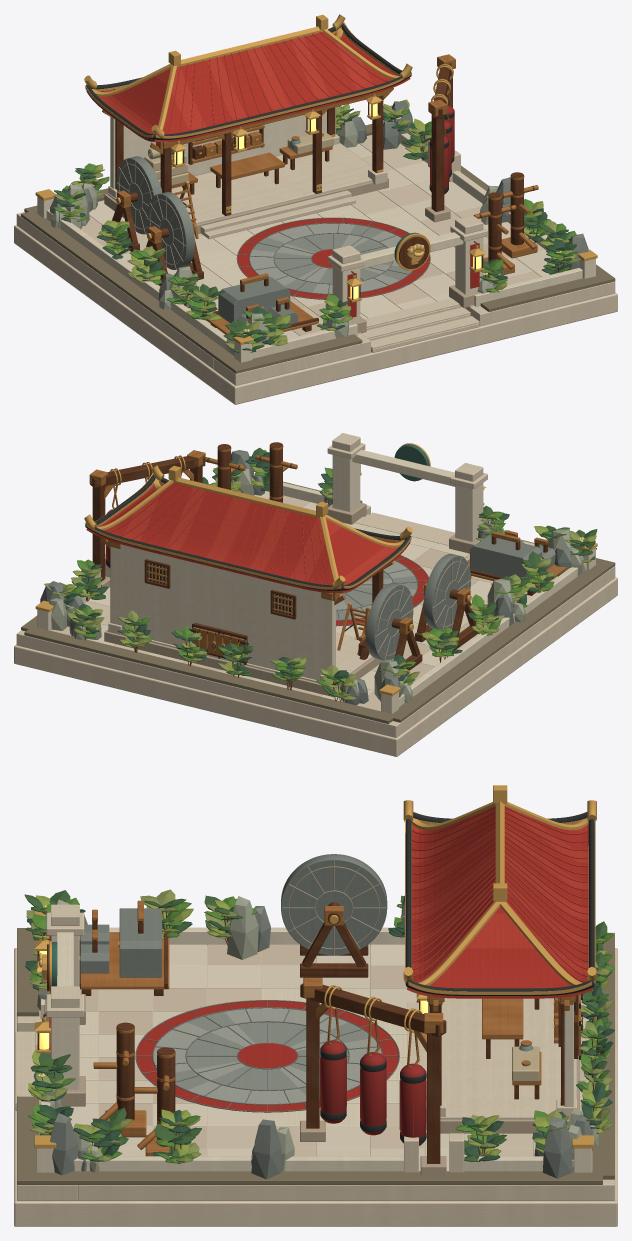
The model's file is martial-v23-user-accepted.glb.
The picture shows the model from 3 angles, top to bottom: view 1: azimuth 30°, elevation 25°; view 2: azimuth 150°, elevation 25°; view 3: azimuth 270°, elevation 25°; orthographic projection. The views are drawn at different scales.
Visible parts, largest first — view 1: SM_Martial_MAT_CT2_Stone.008, SM_Martial_MAT_CT2_IvoryPlaster.008, SM_Martial_MAT_CT2_FoldedTerracotta.008, SM_Martial_MAT_CT2_DarkTimber.008, SM_Martial_MAT_CT2_TrainingStone.008, SM_Martial_MAT_CT2_FoldedTerracottaAlt.008, SM_Martial_MAT_CT2_MatteCopper.008, SM_Martial_MAT_CT2_HoneyTimber.008, SM_Martial_MAT_CT2_PlantingSoil.008, SM_Martial_MAT_CT2_PavingTone_1.008, SM_Martial_MAT_CT2_PracticeGreyStoneLight.008, SM_Martial_MAT_CT2_PracticeGreyStone.008 (+16 smaller); view 2: SM_Martial_MAT_CT2_IvoryPlaster.008, SM_Martial_MAT_CT2_Stone.008, SM_Martial_MAT_CT2_FoldedTerracotta.008, SM_Martial_MAT_CT2_TrainingStone.008, SM_Martial_MAT_CT2_PlantingSoil.008, SM_Martial_MAT_CT2_DarkTimber.008, SM_Martial_MAT_CT2_FoldedTerracottaAlt.008, SM_Martial_MAT_CT2_MatteCopper.008, SM_Martial_MAT_CT2_HoneyTimber.008, SM_Martial_MAT_CT2_StoneShadow.008, SM_Martial_MAT_CT2_LeafBright.008, SM_Martial_MAT_CT2_FacetedRockLight.008 (+14 smaller); view 3: SM_Martial_MAT_CT2_Stone.008, SM_Martial_MAT_CT2_FoldedTerracotta.008, SM_Martial_MAT_CT2_TrainingStone.008, SM_Martial_MAT_CT2_IvoryPlaster.008, SM_Martial_MAT_CT2_FoldedTerracottaAlt.008, SM_Martial_MAT_CT2_DarkTimber.008, SM_Martial_MAT_CT2_PlantingSoil.008, SM_Martial_MAT_CT2_HoneyTimber.008, SM_Martial_MAT_CT2_MatteCopper.008, SM_Martial_MAT_CT2_PavingTone_1.008, SM_Martial_MAT_CT2_PracticeGreyStoneLight.008, SM_Martial_MAT_CT2_PavingTone_3.008 (+15 smaller).
Boxes of the visible parts, x1,y1,x2,y2 form: SM_Martial_MAT_CT2_Stone.008: (14, 134, 617, 404); SM_Martial_MAT_CT2_IvoryPlaster.008: (37, 107, 595, 362); SM_Martial_MAT_CT2_FoldedTerracotta.008: (104, 32, 479, 317); SM_Martial_MAT_CT2_DarkTimber.008: (71, 63, 564, 339); SM_Martial_MAT_CT2_TrainingStone.008: (50, 101, 588, 331); SM_Martial_MAT_CT2_FoldedTerracottaAlt.008: (86, 32, 449, 184); SM_Martial_MAT_CT2_MatteCopper.008: (35, 14, 597, 344); SM_Martial_MAT_CT2_HoneyTimber.008: (102, 54, 538, 334); SM_Martial_MAT_CT2_PlantingSoil.008: (21, 124, 615, 373); SM_Martial_MAT_CT2_PavingTone_1.008: (157, 143, 551, 338); SM_Martial_MAT_CT2_PracticeGreyStoneLight.008: (250, 223, 401, 293); SM_Martial_MAT_CT2_PracticeGreyStone.008: (253, 224, 411, 292); SM_Martial_MAT_CT2_IvoryPlaster.008: (37, 449, 595, 713); SM_Martial_MAT_CT2_Stone.008: (14, 433, 617, 756); SM_Martial_MAT_CT2_FoldedTerracotta.008: (90, 483, 428, 626); SM_Martial_MAT_CT2_TrainingStone.008: (40, 450, 571, 705); SM_Martial_MAT_CT2_PlantingSoil.008: (21, 481, 615, 723); SM_Martial_MAT_CT2_DarkTimber.008: (67, 442, 560, 702); SM_Martial_MAT_CT2_FoldedTerracottaAlt.008: (86, 483, 410, 593); SM_Martial_MAT_CT2_MatteCopper.008: (35, 443, 597, 696); SM_Martial_MAT_CT2_HoneyTimber.008: (89, 445, 566, 661); SM_Martial_MAT_CT2_StoneShadow.008: (101, 502, 479, 697); SM_Martial_MAT_CT2_LeafBright.008: (59, 450, 581, 698); SM_Martial_MAT_CT2_FacetedRockLight.008: (49, 468, 585, 702); SM_Martial_MAT_CT2_Stone.008: (14, 904, 617, 1226); SM_Martial_MAT_CT2_FoldedTerracotta.008: (49, 808, 593, 1112); SM_Martial_MAT_CT2_TrainingStone.008: (43, 854, 592, 1179); SM_Martial_MAT_CT2_IvoryPlaster.008: (36, 927, 592, 1172); SM_Martial_MAT_CT2_FoldedTerracottaAlt.008: (320, 806, 593, 1135); SM_Martial_MAT_CT2_DarkTimber.008: (37, 902, 598, 1163); SM_Martial_MAT_CT2_PlantingSoil.008: (17, 928, 614, 1184); SM_Martial_MAT_CT2_HoneyTimber.008: (80, 900, 580, 1156); SM_Martial_MAT_CT2_MatteCopper.008: (34, 785, 596, 1148); SM_Martial_MAT_CT2_PavingTone_1.008: (99, 944, 587, 1171); SM_Martial_MAT_CT2_PracticeGreyStoneLight.008: (153, 1008, 381, 1103); SM_Martial_MAT_CT2_PavingTone_3.008: (61, 944, 467, 1171).
Bounding box in the file's own units: 10 × 4.81 × 10.
34 materials, 12 textured.
